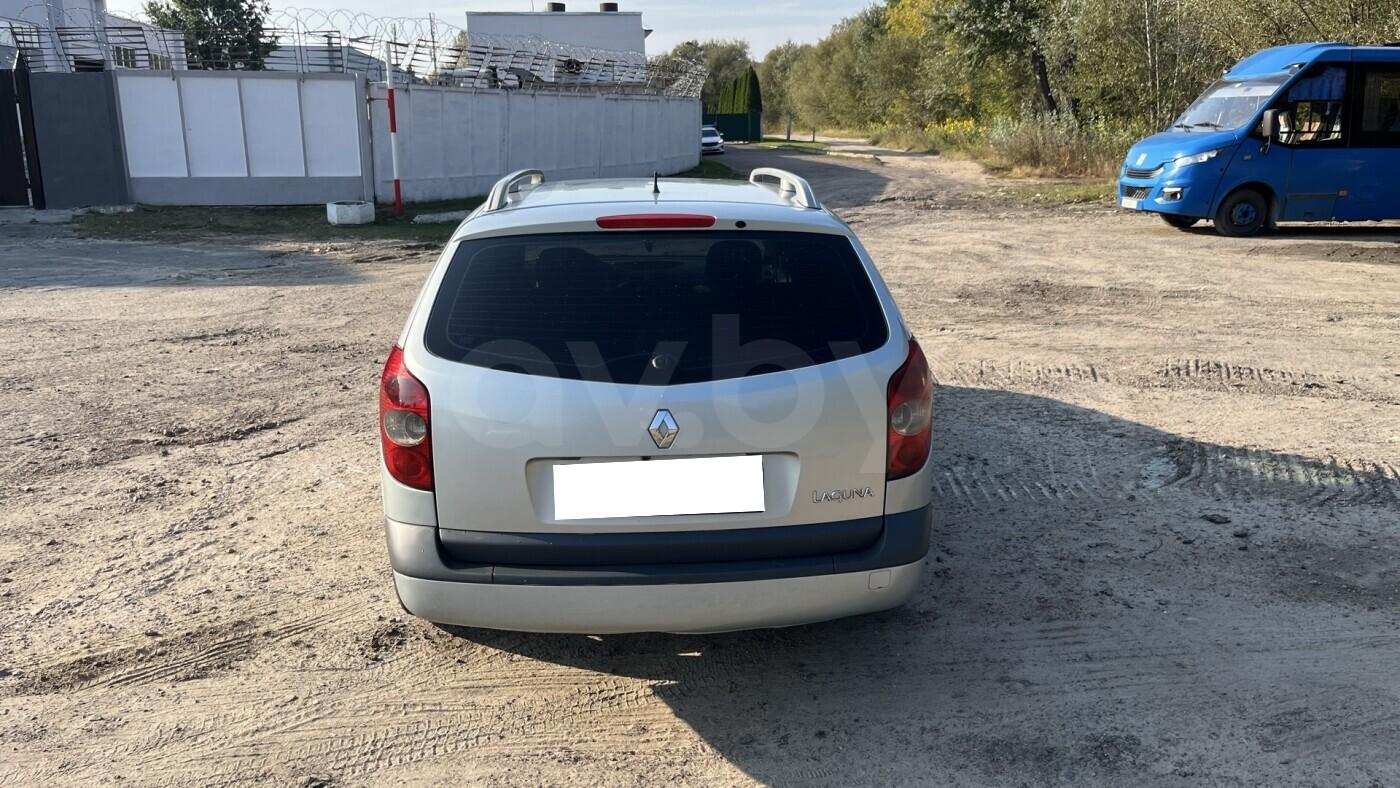Laguna_2001-2005: (377, 167, 933, 633)
